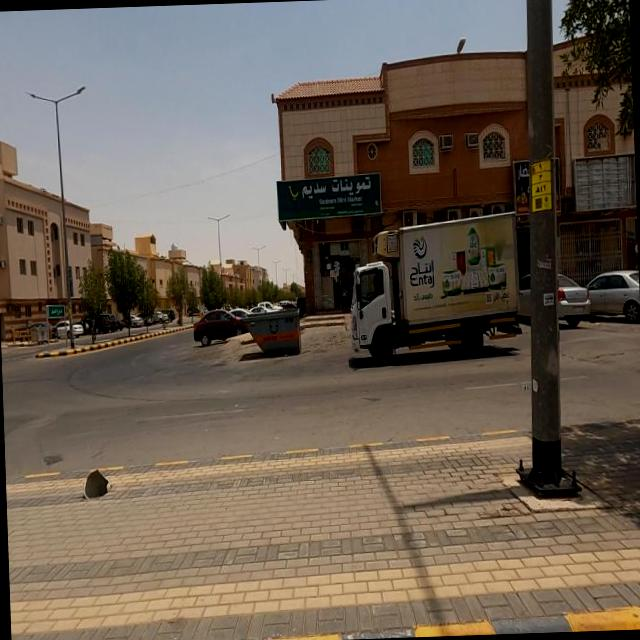debris: (537, 108, 638, 262)
